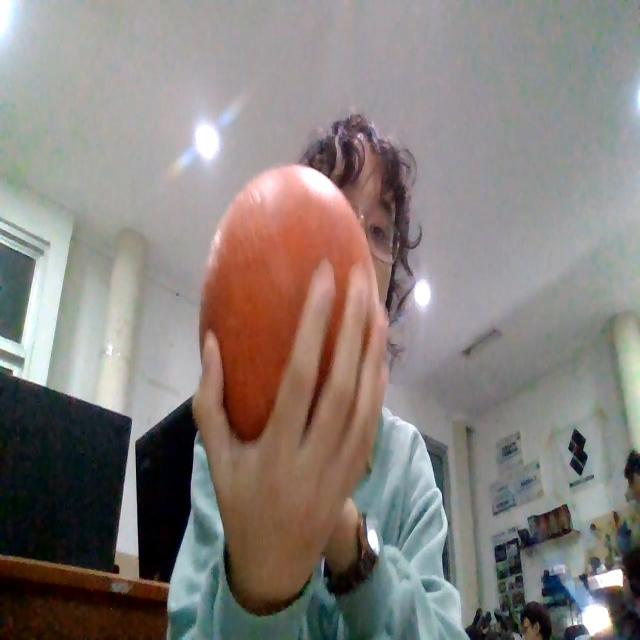ball: (198, 162, 376, 444)
